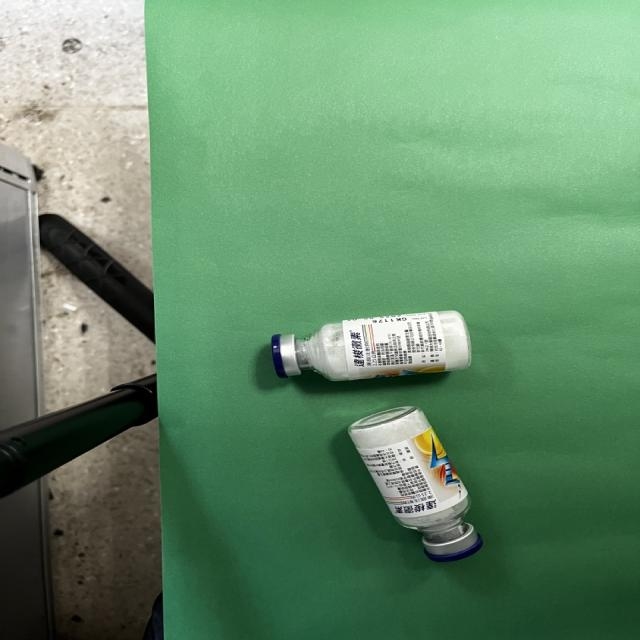Vials: (349, 406, 482, 561), (271, 311, 471, 381)
